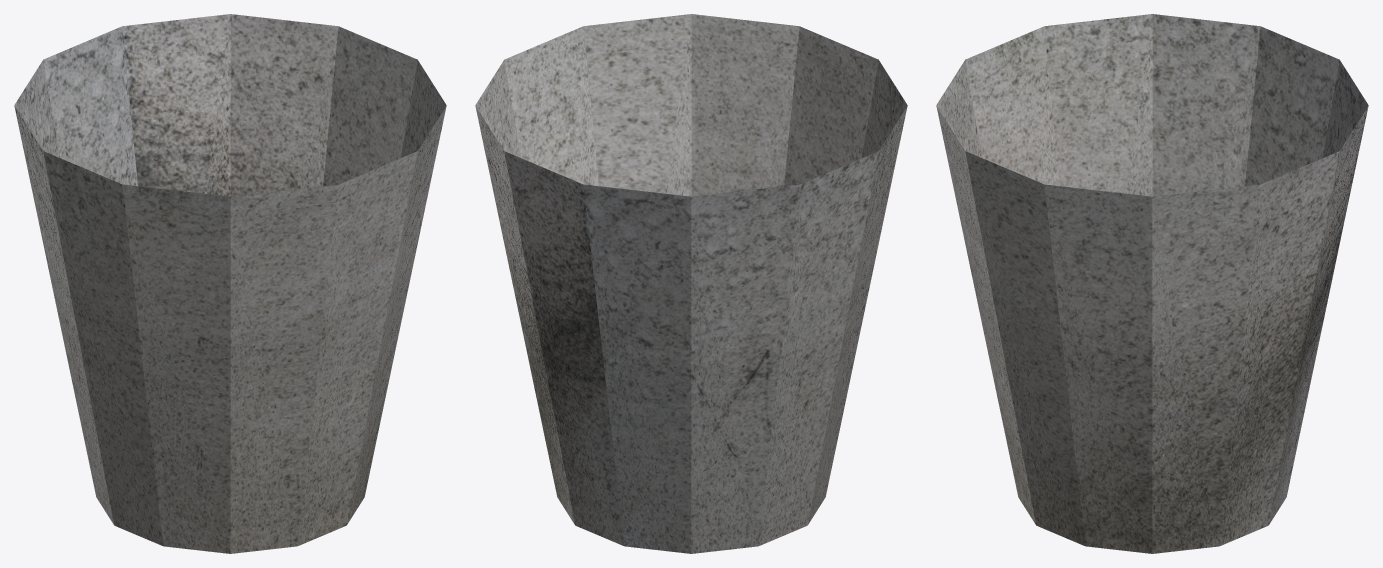
File: Cumbucket4.glb
3 views of the same model, side by side, from view 1: azimuth 30°, elevation 25°; view 2: azimuth 150°, elevation 25°; view 3: azimuth 270°, elevation 25° (orthographic).
Visible parts, largest first — view 1: Cumbucket-col; view 2: Cumbucket-col; view 3: Cumbucket-col.
Boxes of the visible parts, left/top/right/bottom form: Cumbucket-col: left=14, top=14, right=446, bottom=553; Cumbucket-col: left=475, top=14, right=907, bottom=553; Cumbucket-col: left=936, top=14, right=1368, bottom=553.
Size of the model in its own units: 0.3833 by 0.3833 by 0.3833.
1 material, 1 textured.
